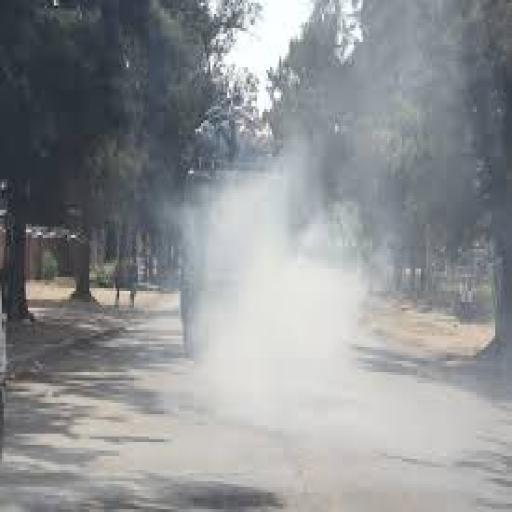smoke: (156, 162, 436, 400)
